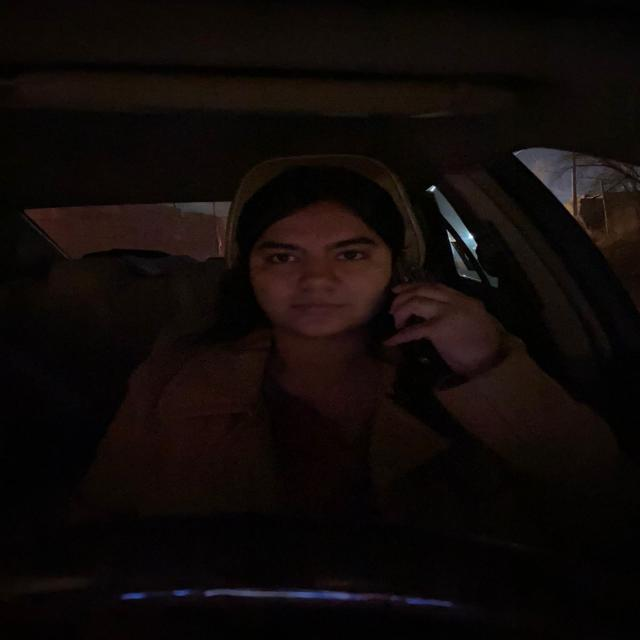mobile: (393, 279, 425, 369)
person: (256, 175, 384, 332)
